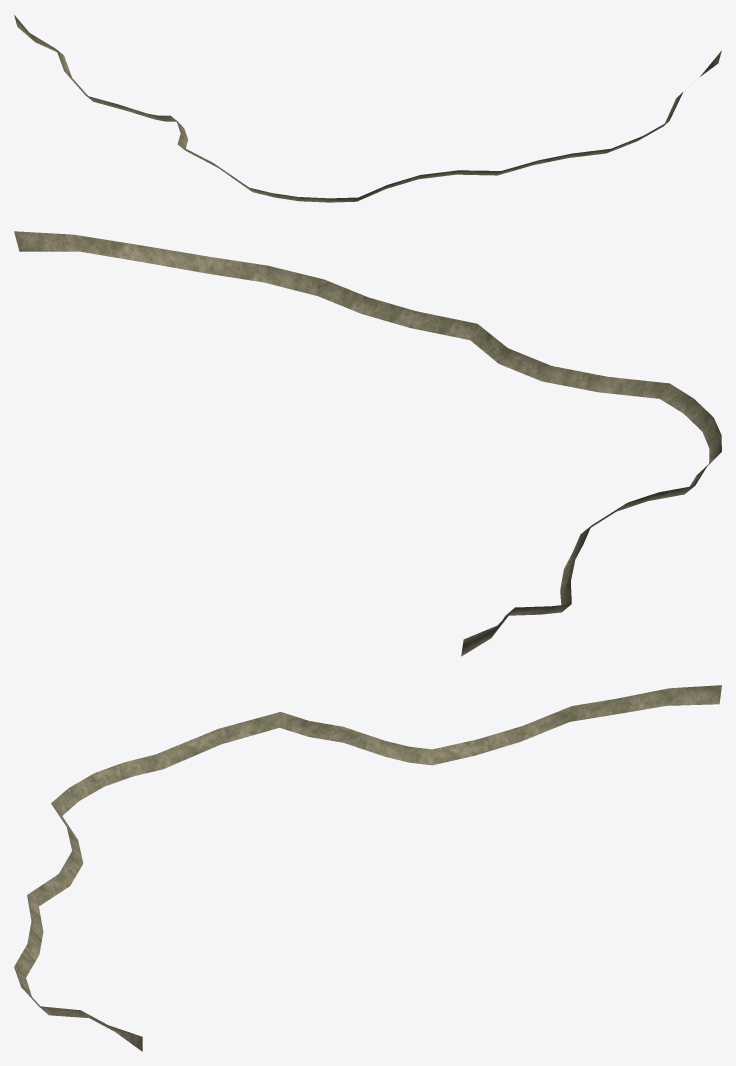
The model's file is EKH_JAIL_PS_JA_BASE_TRIM83736.fbx.
3 renders of one model, top to bottom at view 1: azimuth 30°, elevation 25°; view 2: azimuth 150°, elevation 25°; view 3: azimuth 270°, elevation 25°, orthographic. The views are drawn at different scales.
Visible parts, largest first — view 1: EKH_JAIL_PS_JA_BASE_TRIM83736; view 2: EKH_JAIL_PS_JA_BASE_TRIM83736; view 3: EKH_JAIL_PS_JA_BASE_TRIM83736.
Part boxes in pixels (box(x1,y1,x2,y2)): EKH_JAIL_PS_JA_BASE_TRIM83736: box(14, 15, 721, 202); EKH_JAIL_PS_JA_BASE_TRIM83736: box(14, 231, 721, 656); EKH_JAIL_PS_JA_BASE_TRIM83736: box(14, 685, 721, 1051).
Size of the model in its own units: 310532 by 24205 by 269406.
1 material, 1 textured.
